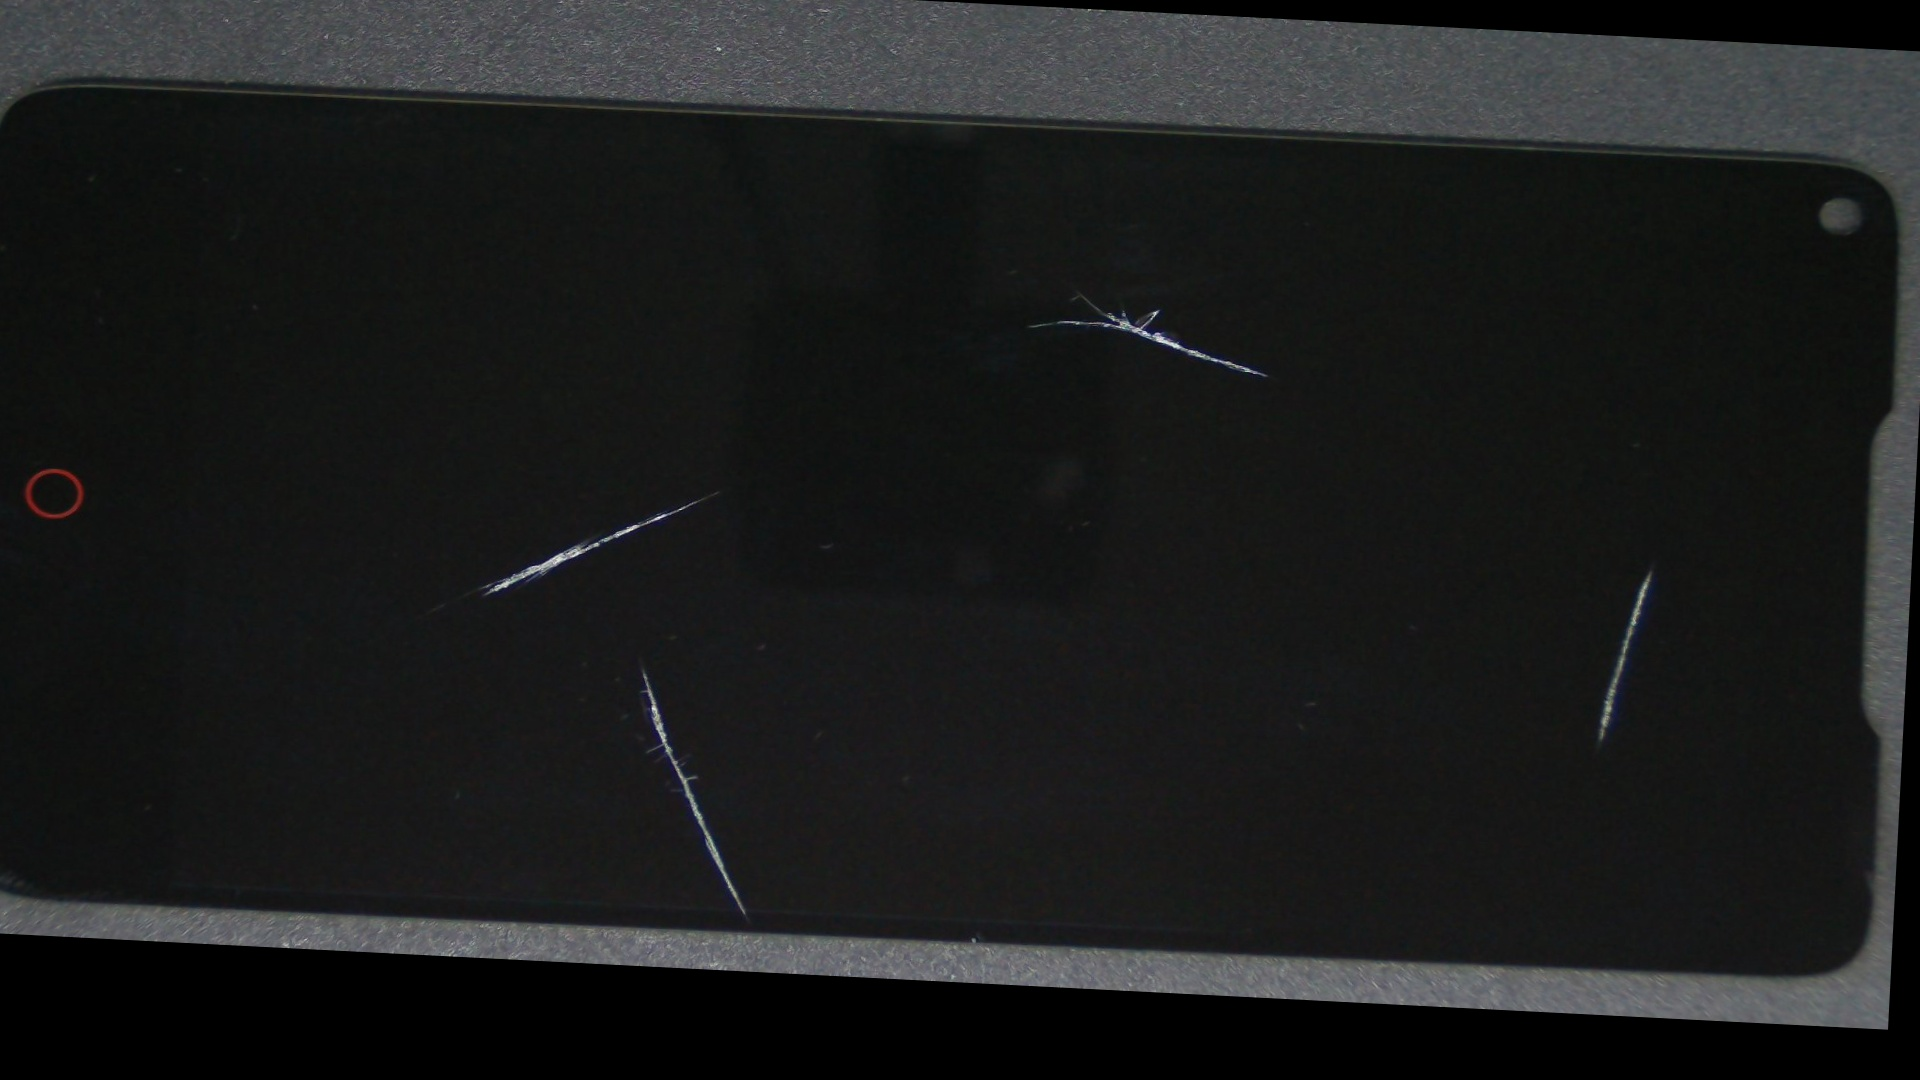oil: (766, 258, 1920, 847), (256, 307, 1027, 984), (302, 220, 1133, 762), (493, 121, 1664, 464)
